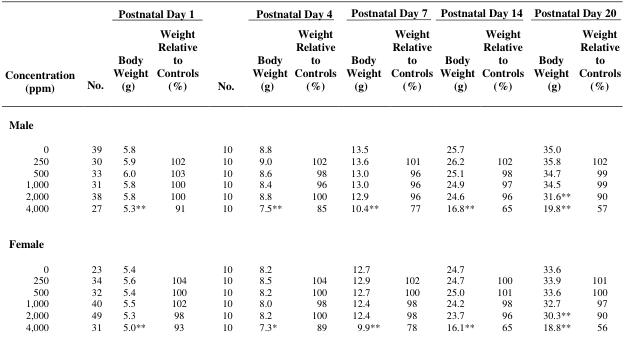table: (4, 4, 620, 332)
table column: (4, 4, 80, 332), (151, 4, 207, 332), (290, 4, 340, 332), (385, 4, 435, 332), (477, 4, 527, 332), (242, 4, 290, 332), (527, 4, 574, 332), (574, 4, 620, 332), (340, 4, 385, 332), (107, 4, 151, 332), (435, 4, 477, 332), (207, 4, 242, 332), (80, 4, 107, 332)
table column header: (4, 4, 620, 105)
table projected row header: (4, 105, 620, 136), (4, 224, 620, 255)
table row: (4, 22, 620, 105), (4, 105, 620, 136), (4, 224, 620, 255), (4, 200, 620, 224), (4, 4, 620, 22), (4, 136, 620, 154), (4, 255, 620, 273), (4, 319, 620, 332), (4, 165, 620, 177), (4, 177, 620, 189), (4, 273, 620, 285), (4, 296, 620, 308), (4, 154, 620, 165), (4, 189, 620, 200), (4, 285, 620, 296), (4, 308, 620, 319)
table spanning cell: (4, 4, 80, 105), (207, 4, 242, 105), (80, 4, 107, 105), (107, 4, 207, 22), (242, 4, 340, 22), (340, 4, 435, 22), (527, 4, 620, 22), (435, 4, 527, 22)
